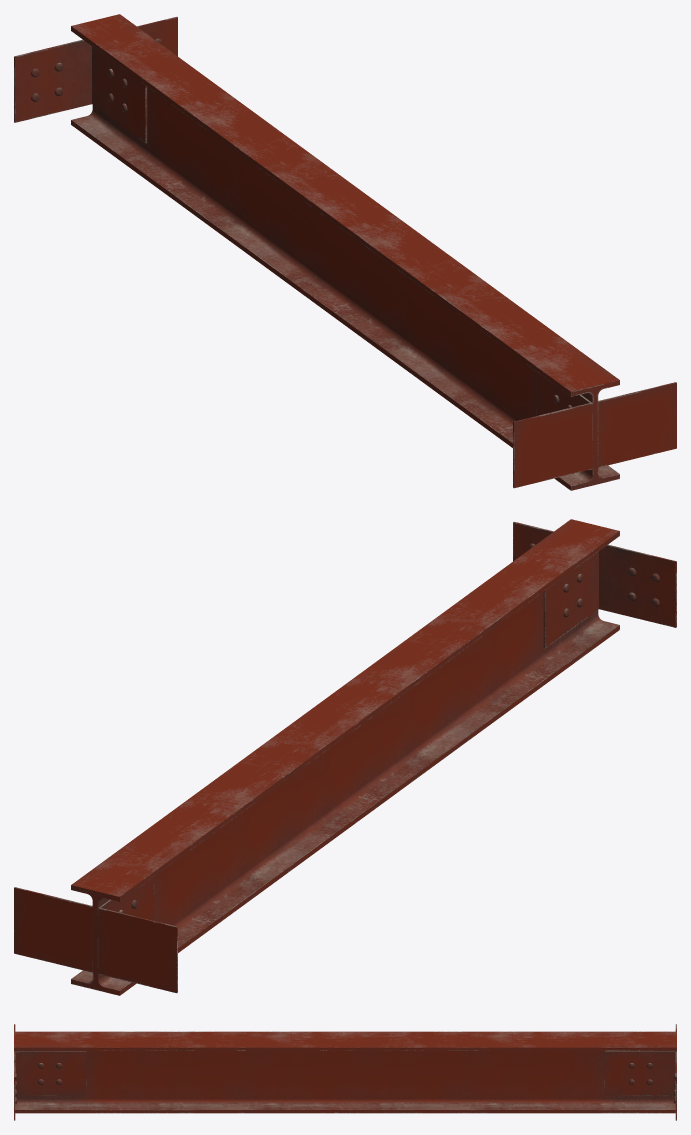
The model's file is construction_steel_beam.glb.
3 views of the same model, one above another, from view 1: azimuth 30°, elevation 25°; view 2: azimuth 150°, elevation 25°; view 3: azimuth 270°, elevation 25° (orthographic). The views are drawn at different scales.
Parts seen in each view (by area): view 1: Object_2, Object_3; view 2: Object_2, Object_3; view 3: Object_2, Object_3, Object_4.
Boxes of the visible parts, x1,y1,x2,y2 form: Object_2: (71,14,619,490); Object_3: (14,16,676,488); Object_2: (71,519,619,995); Object_3: (14,521,676,993); Object_2: (14,1031,676,1113); Object_3: (14,1024,676,1120); Object_4: (15,1063,675,1103).
Size of the model in its own units: 2.07 by 1.2 by 11.
Materials: 3 (3 with a texture image).
